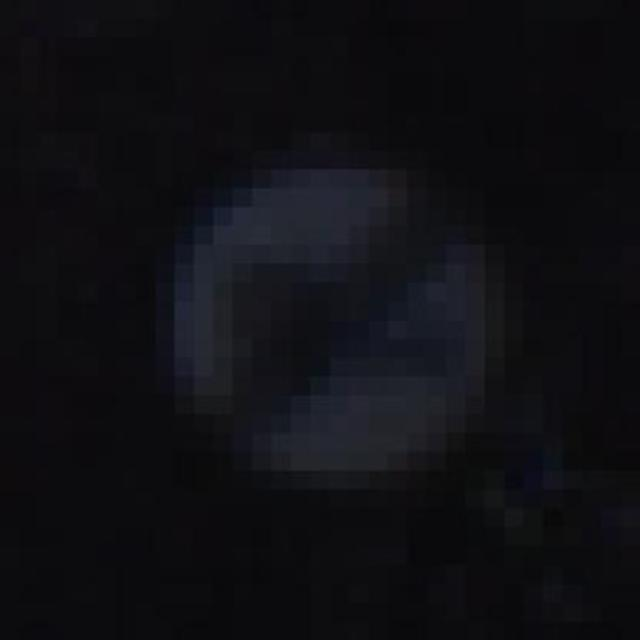Overtaking by trucks is prohibited: (116, 76, 562, 546)
